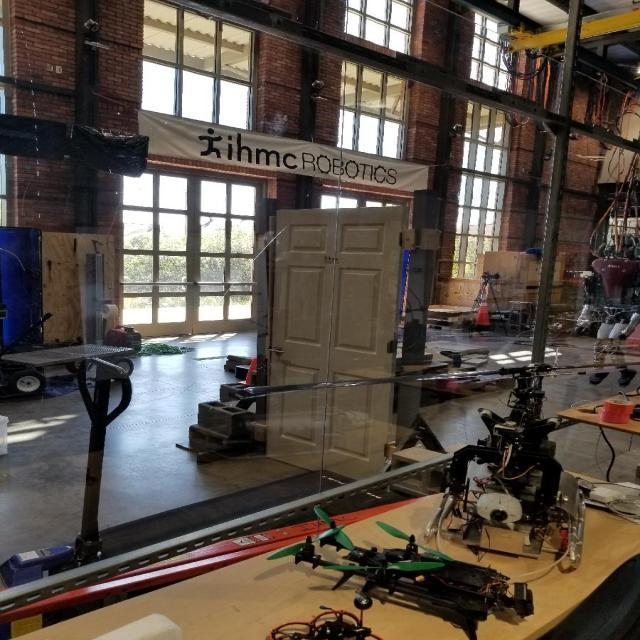door: (264, 203, 406, 493), (267, 346, 286, 357)
